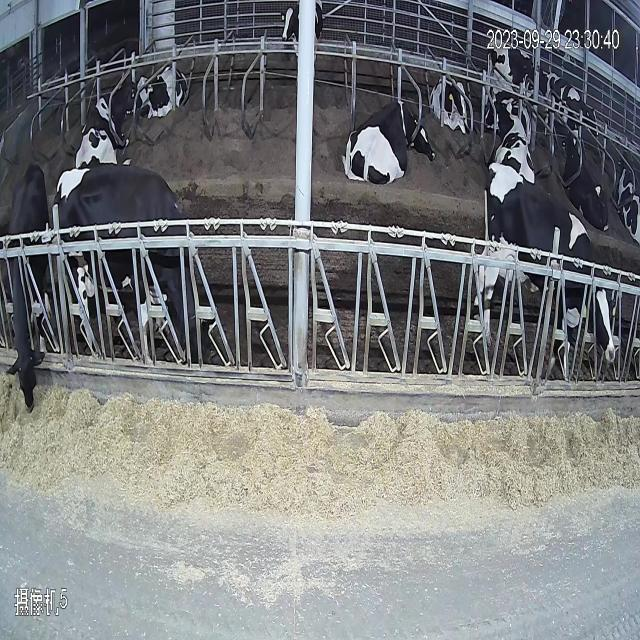feeding: (1, 164, 64, 418)
lying down: (56, 170, 218, 374), (335, 78, 434, 200), (130, 58, 198, 130), (430, 62, 477, 136)
